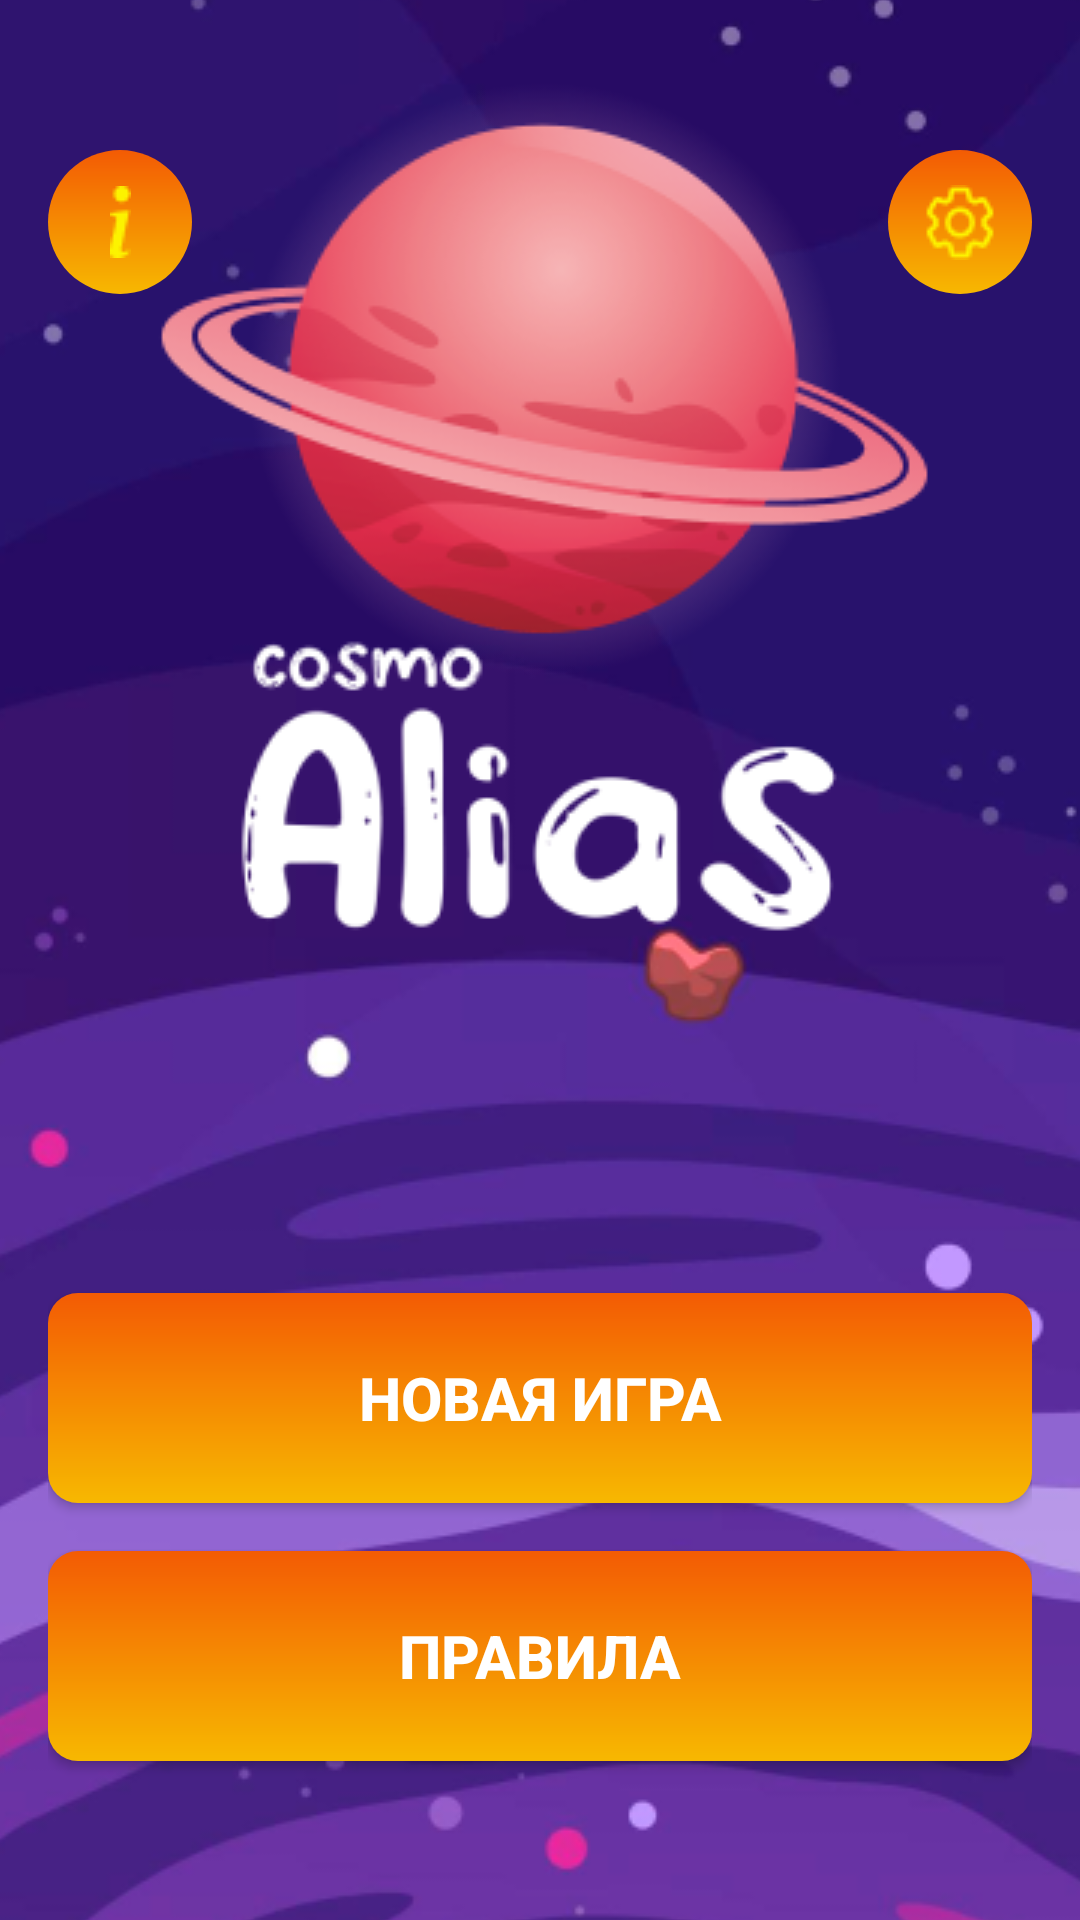

Icons on this 1080*1920 Android screen, each with its box as (x1, y1, x2, y2):
info: (48, 150, 192, 294)
setting: (888, 150, 1032, 294)
